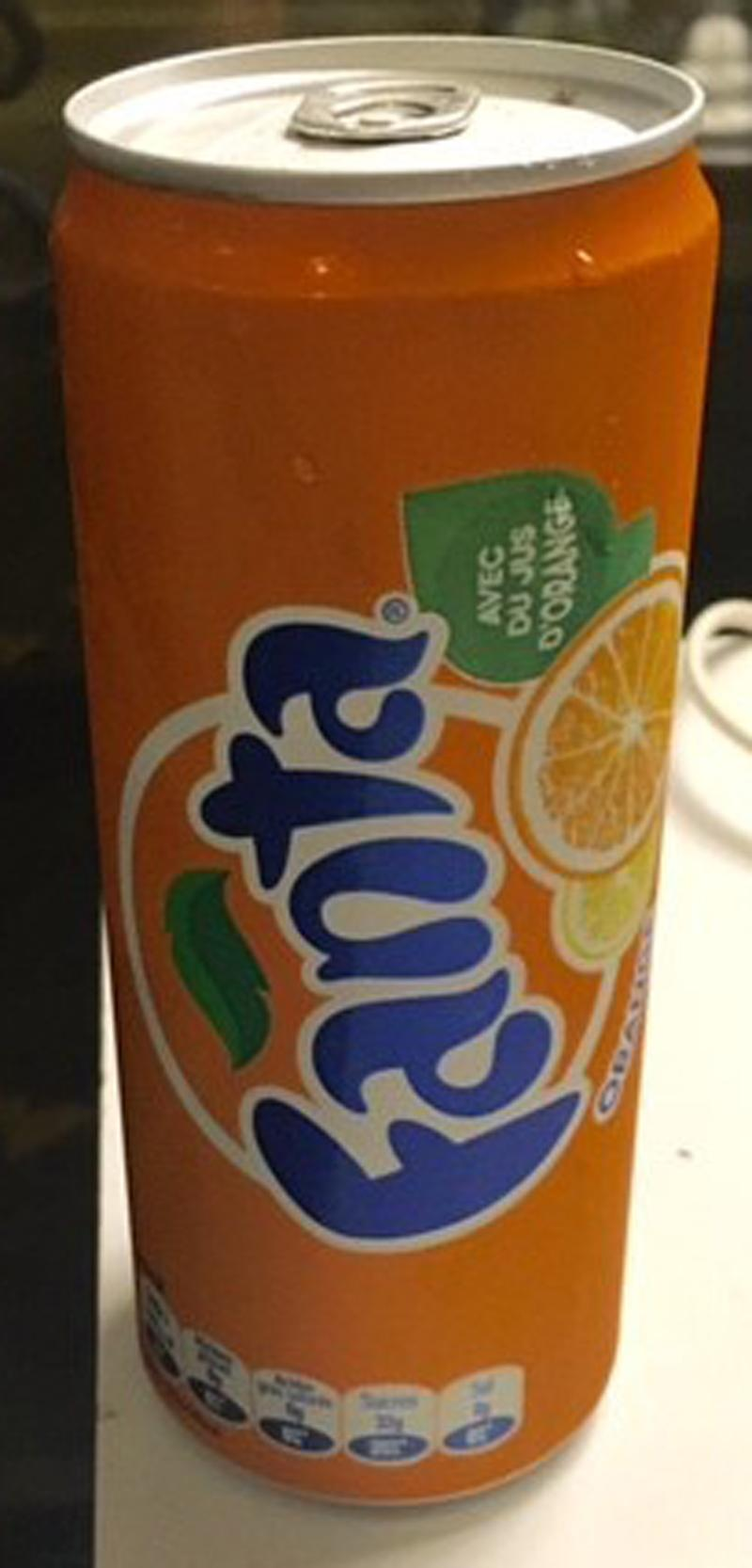metal: (53, 34, 718, 1505)
